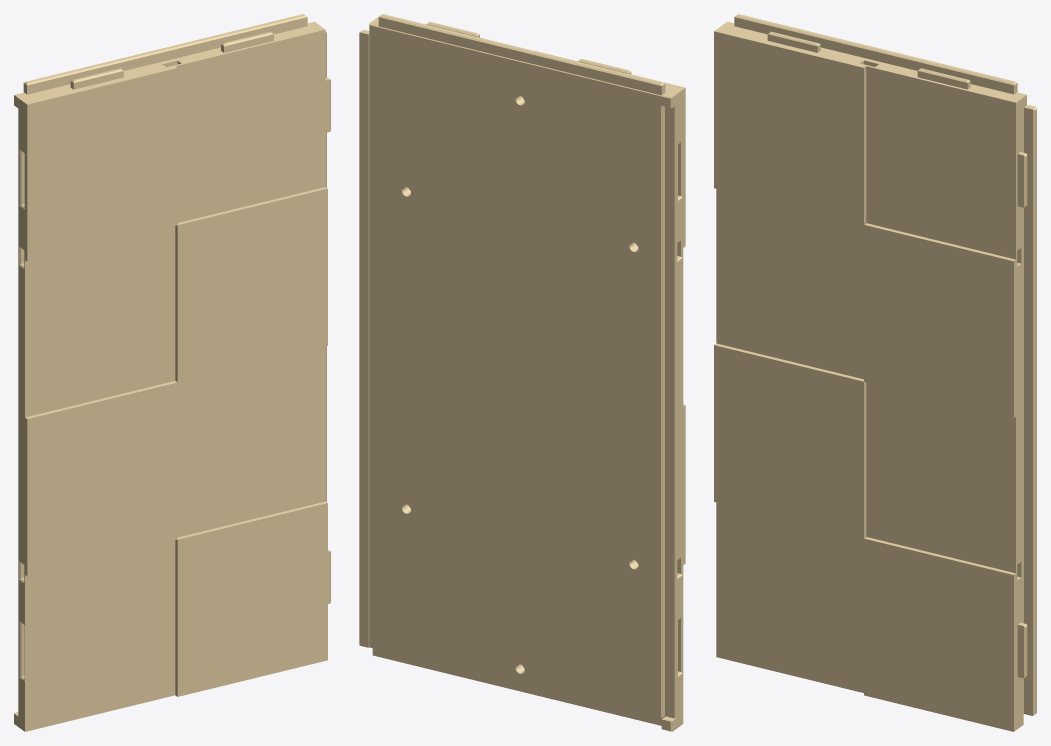
File: .panel_south_ef_light_body.step.glb
3 renders of one model, left to right at view 1: azimuth 30°, elevation 25°; view 2: azimuth 150°, elevation 25°; view 3: azimuth 330°, elevation 25°, orthographic.
Visible parts, largest first — view 1: o1; view 2: o1; view 3: o1.
Part boxes in pixels (x1,y1,x2,y2): o1: (14, 14, 330, 731); o1: (359, 14, 685, 731); o1: (714, 14, 1036, 731).
Size of the model in its own units: 0.124 by 0.244 by 0.0096.
